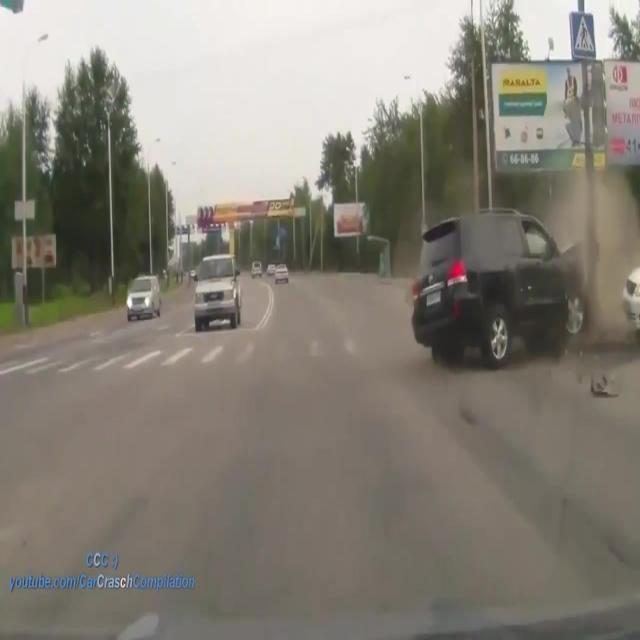moderate: (407, 201, 602, 375)
